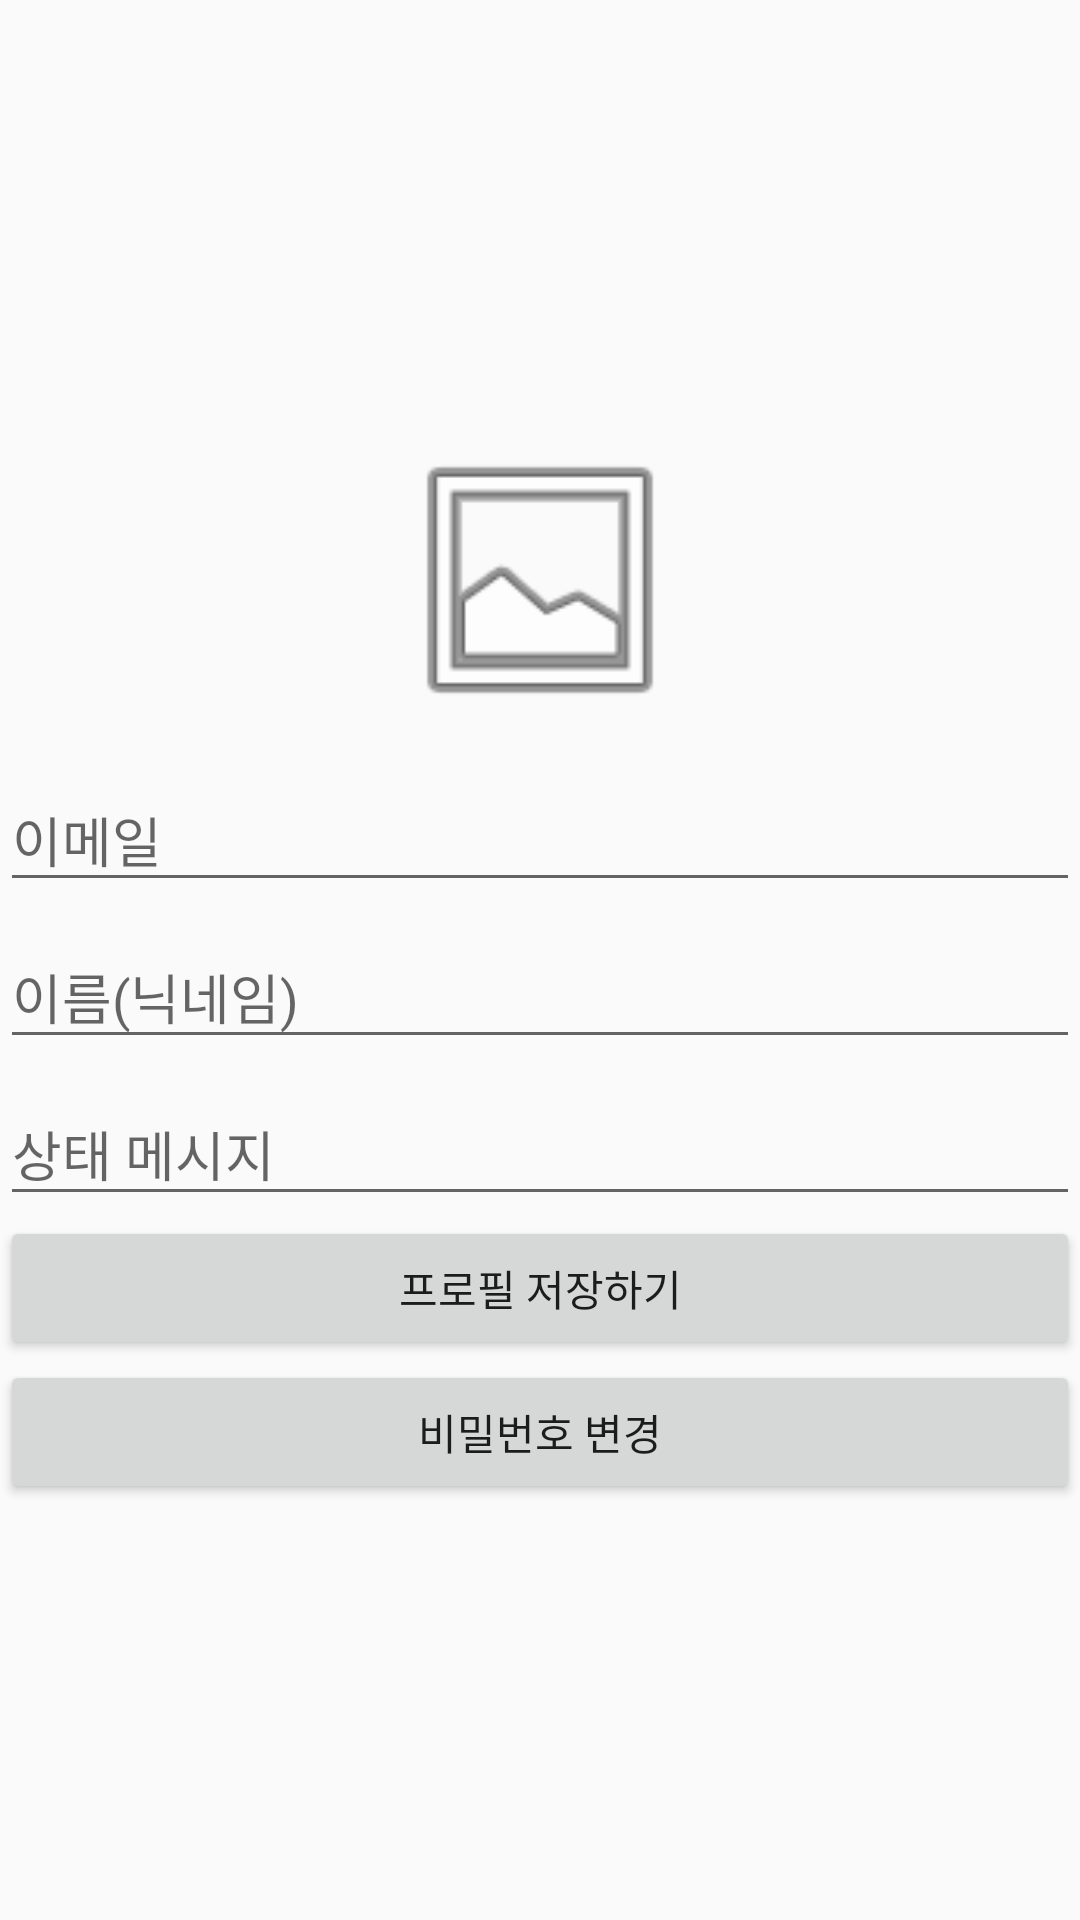

Screen size 1080 x 1920. Icon name, then its center in pixels as [x,y]:
gallery: [540,580]
